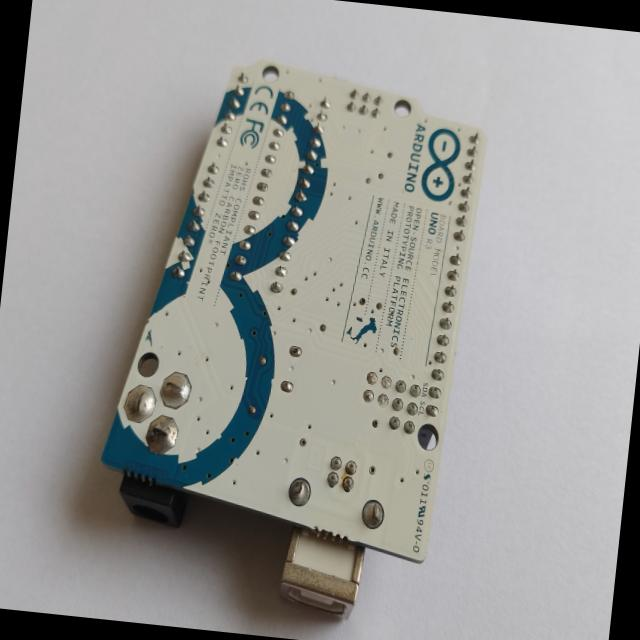arduino: (86, 41, 498, 638)
